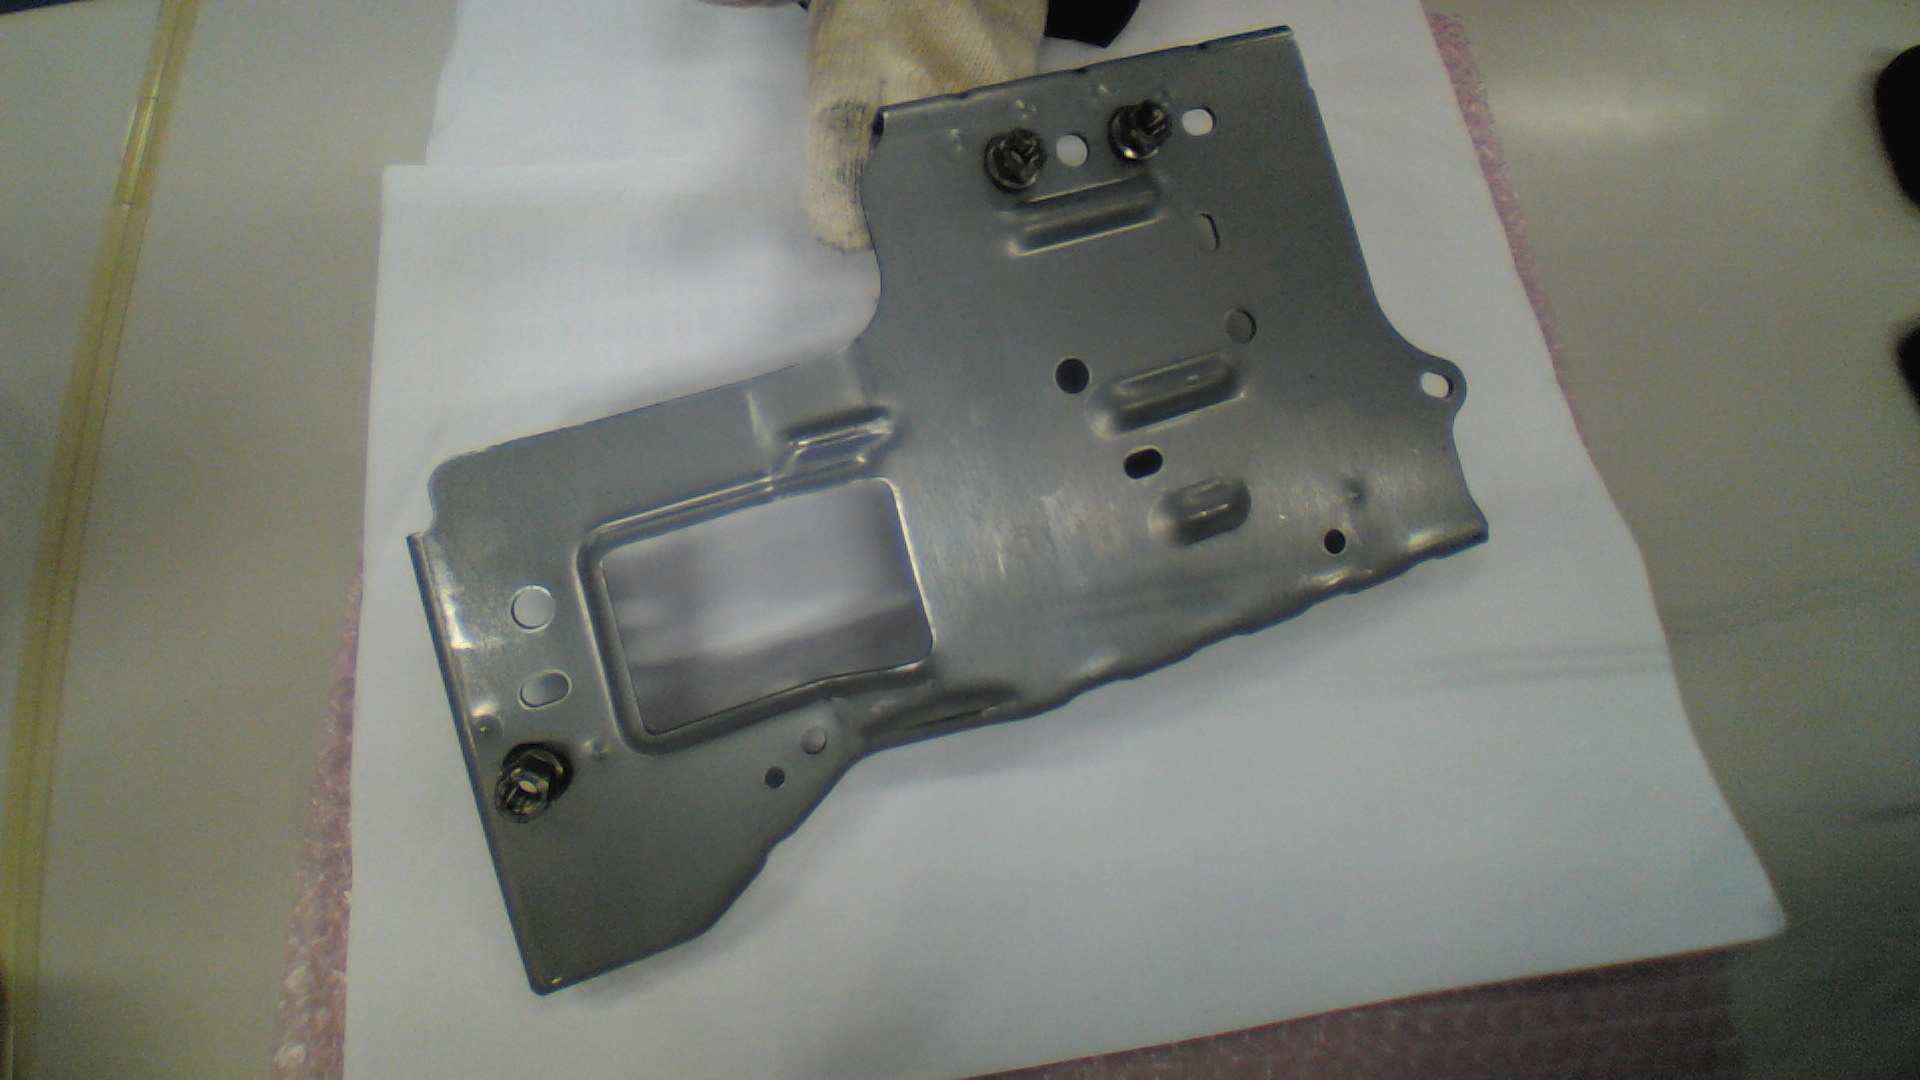dog: (495, 745, 568, 820), (982, 127, 1048, 195), (1109, 102, 1171, 164)
